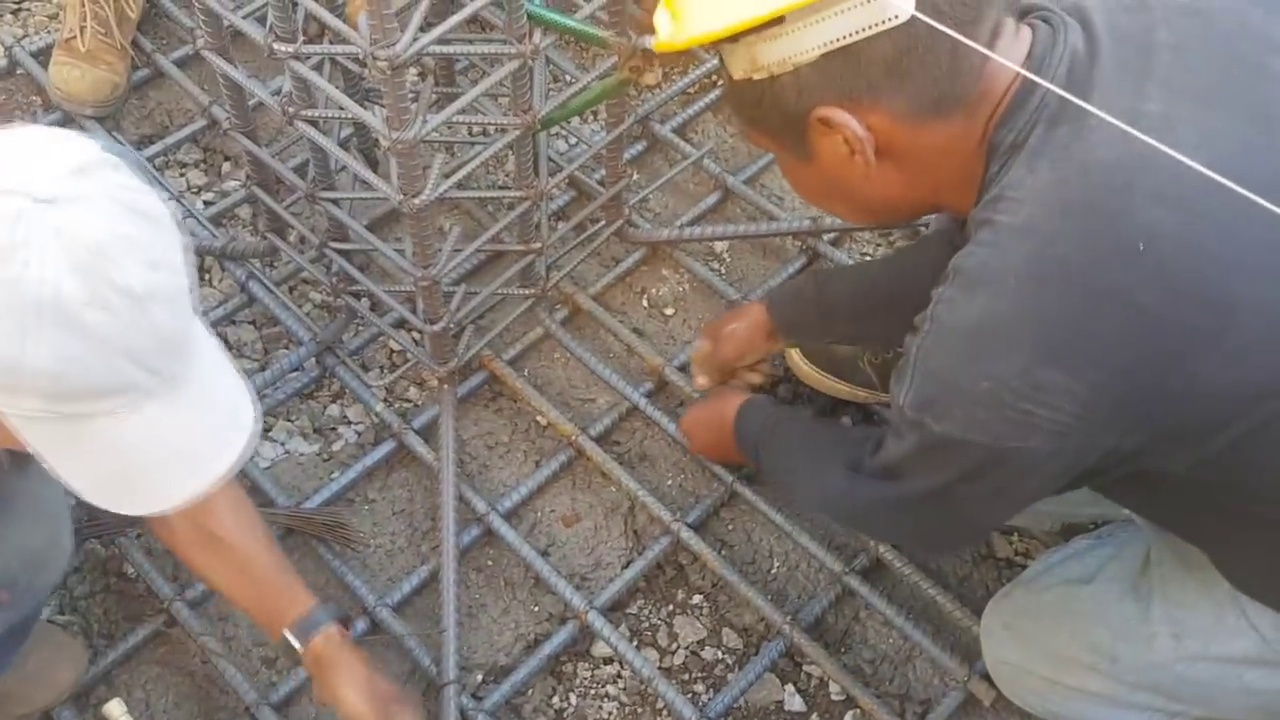helmet-off: (0, 116, 260, 516), (648, 0, 1047, 229)
person: (646, 0, 1280, 720), (1, 114, 432, 720)
